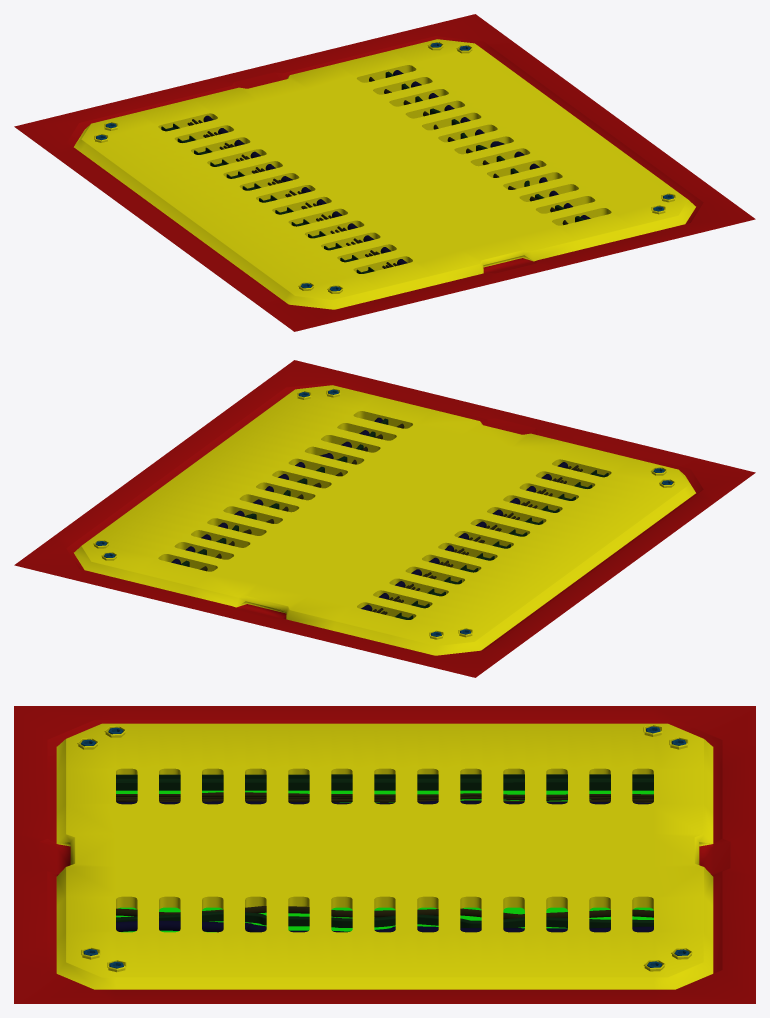
File: Pannel_Hi.FBX
3 views of the same model, one above another, from view 1: azimuth 30°, elevation 25°; view 2: azimuth 150°, elevation 25°; view 3: azimuth 270°, elevation 25° (orthographic). The views are drawn at different scales.
Visible parts, largest first — view 1: Pannel_High; view 2: Pannel_High; view 3: Pannel_High.
Part boxes in pixels (left/top/right/bottom): Pannel_High: left=14, top=14, right=755, bottom=331; Pannel_High: left=14, top=360, right=755, bottom=677; Pannel_High: left=14, top=706, right=755, bottom=1003.
Bounding box in the file's own units: 380 × 10.24 × 400.
